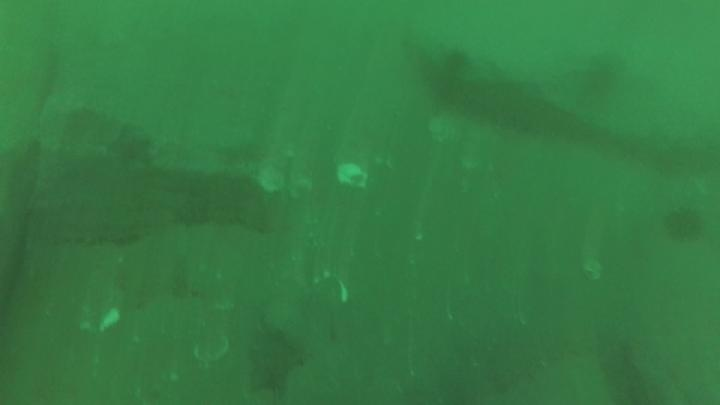starfish: (243, 329, 309, 398)
